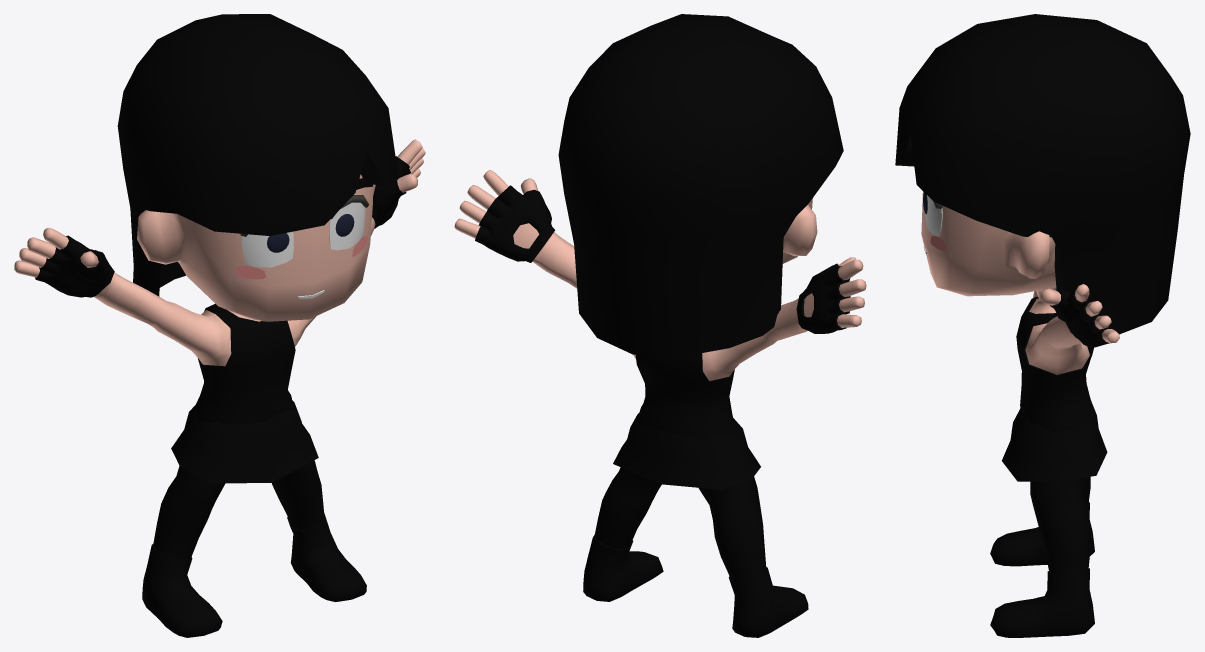
Rendered from Personajes_Rockeros_004.fbx.
3 views of the same model, side by side, from view 1: azimuth 30°, elevation 25°; view 2: azimuth 150°, elevation 25°; view 3: azimuth 270°, elevation 25° (orthographic).
Parts seen in each view (by area): view 1: hair6.002, body.022, shirt2.004, socks.016, body.021, gloves2.001, eyesbase1.010, eyes6.014; view 2: hair6.002, body.022, socks.016, body.021, shirt2.004, gloves2.001; view 3: hair6.002, body.022, socks.016, body.021, shirt2.004, gloves2.001, eyesbase1.010.
Boxes of the visible parts, left/top/right/bottom form: hair6.002: left=117, top=14, right=398, bottom=296; body.022: left=14, top=139, right=425, bottom=559; shirt2.004: left=196, top=303, right=295, bottom=424; socks.016: left=142, top=513, right=366, bottom=637; body.021: left=171, top=400, right=318, bottom=483; gloves2.001: left=35, top=156, right=410, bottom=297; eyesbase1.010: left=240, top=195, right=368, bottom=267; eyes6.014: left=267, top=214, right=354, bottom=252; hair6.002: left=558, top=14, right=843, bottom=357; body.022: left=454, top=170, right=866, bottom=577; socks.016: left=583, top=535, right=808, bottom=637; body.021: left=613, top=413, right=760, bottom=489; shirt2.004: left=635, top=353, right=734, bottom=440; gloves2.001: left=475, top=185, right=850, bottom=333; hair6.002: left=895, top=14, right=1190, bottom=334; body.022: left=921, top=191, right=1119, bottom=573; socks.016: left=990, top=502, right=1094, bottom=637; body.021: left=1002, top=401, right=1107, bottom=481; shirt2.004: left=1016, top=296, right=1093, bottom=432; gloves2.001: left=1050, top=288, right=1115, bottom=347; eyesbase1.010: left=925, top=195, right=942, bottom=236.
Bounding box in the file's own units: 129 × 174 × 82.34.
